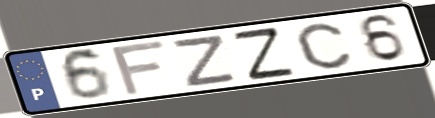6: (57, 46, 116, 104), (358, 13, 408, 64)
C: (294, 21, 355, 71)
F: (108, 38, 170, 99)
Z: (229, 24, 299, 82), (172, 32, 240, 90)
